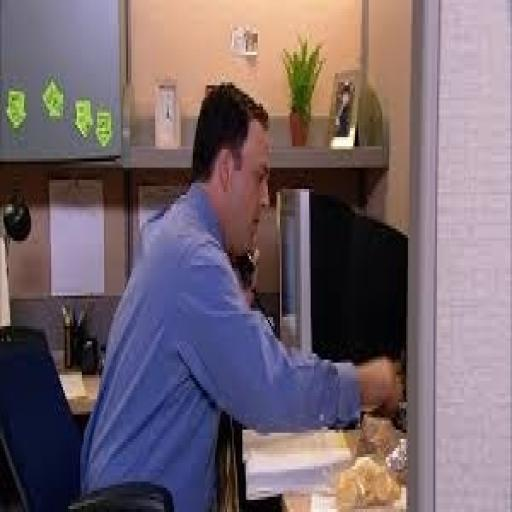calling: (77, 79, 403, 509)
